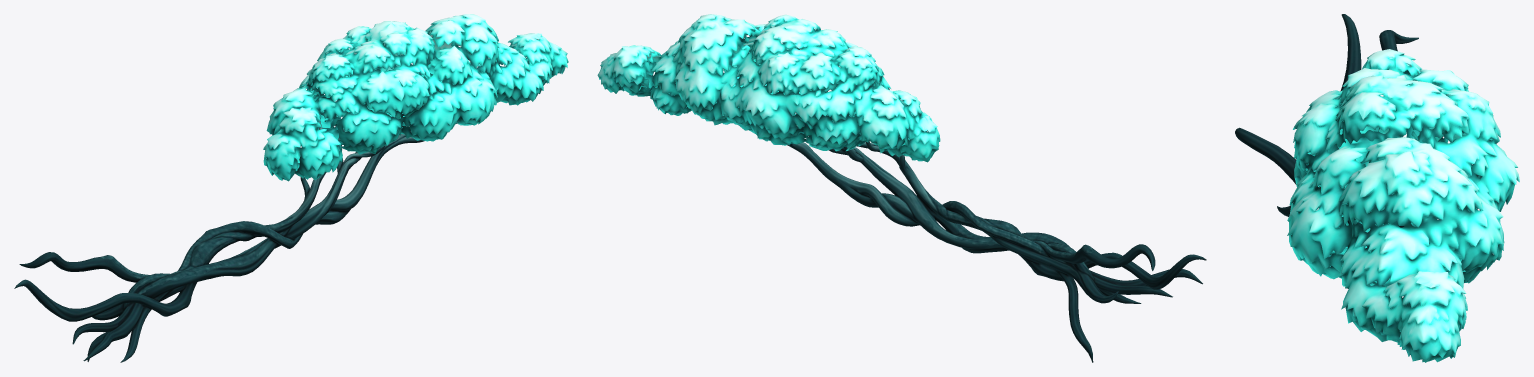
Rendered from sky_tree_02c_soma.glb.
The picture shows the model from 3 angles, left to right: view 1: azimuth 30°, elevation 25°; view 2: azimuth 150°, elevation 25°; view 3: azimuth 270°, elevation 25°; orthographic projection. The views are drawn at different scales.
Visible parts, largest first — view 1: tree_02c; view 2: tree_02c; view 3: tree_02c.
Boxes of the visible parts, box(x1,y1,x2,y2) form: tree_02c: box(14, 14, 568, 362); tree_02c: box(597, 14, 1206, 362); tree_02c: box(1235, 14, 1519, 362).
Size of the model in its own units: 17.2 by 7.47 by 4.64.
Materials: 2 (2 with a texture image).
